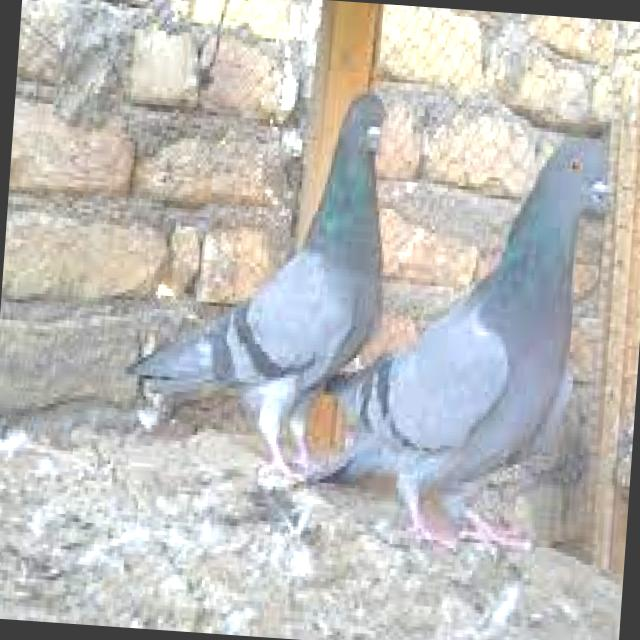bird: (272, 111, 626, 564), (122, 73, 410, 500)
